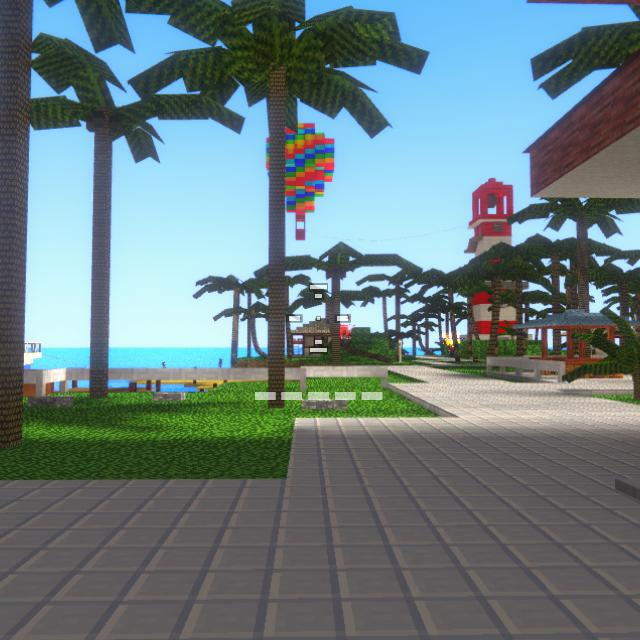Enemy: (342, 330, 349, 342)
